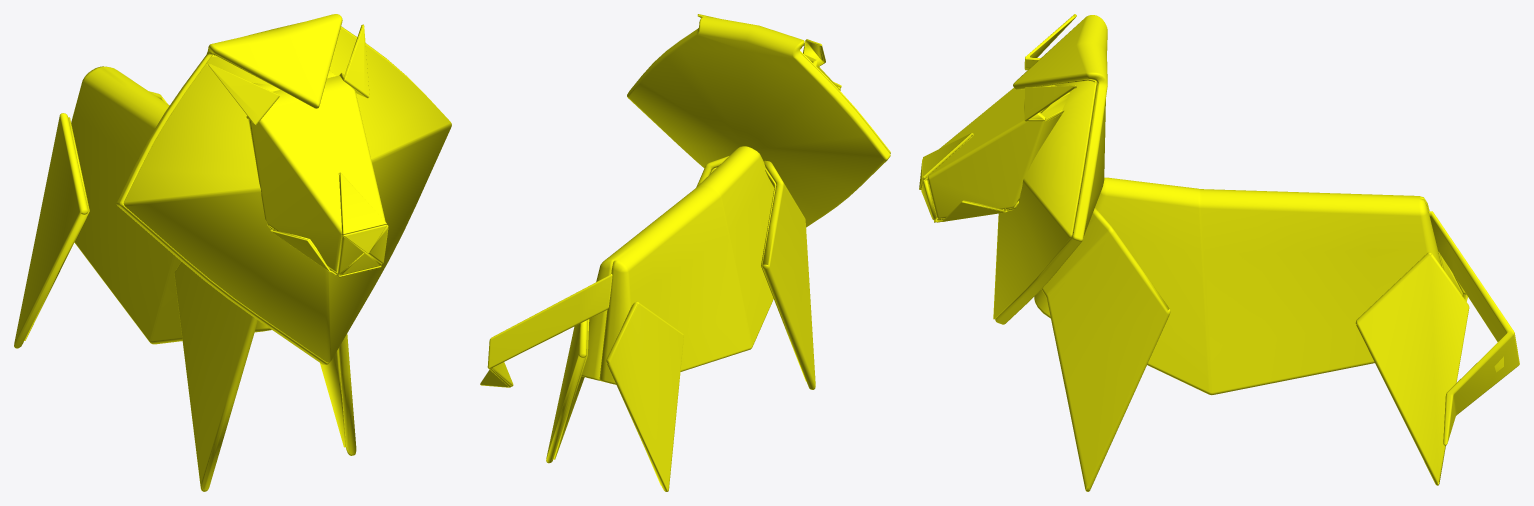
The model's file is liontest.glb.
The picture shows the model from 3 angles, left to right: view 1: azimuth 30°, elevation 25°; view 2: azimuth 150°, elevation 25°; view 3: azimuth 270°, elevation 25°; orthographic projection. The views are drawn at different scales.
Visible parts, largest first — view 1: node_id47; view 2: node_id47; view 3: node_id47.
Part boxes in pixels (x1=…): node_id47: x1=14, y1=14, x2=451, y2=491; node_id47: x1=480, y1=14, x2=890, y2=491; node_id47: x1=919, y1=14, x2=1519, y2=491.
Size of the model in its own units: 1.76 by 2.24 by 2.94.
1 material, 1 textured.
